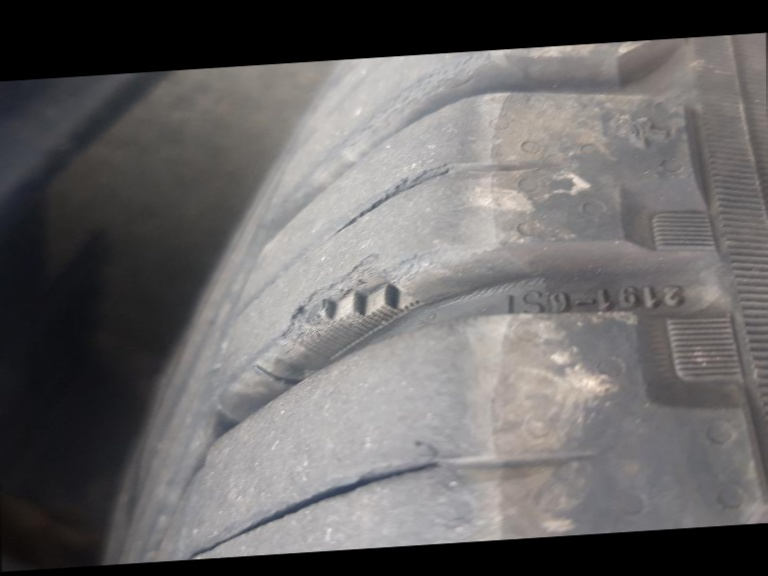temoin:80: (277, 245, 434, 367)
